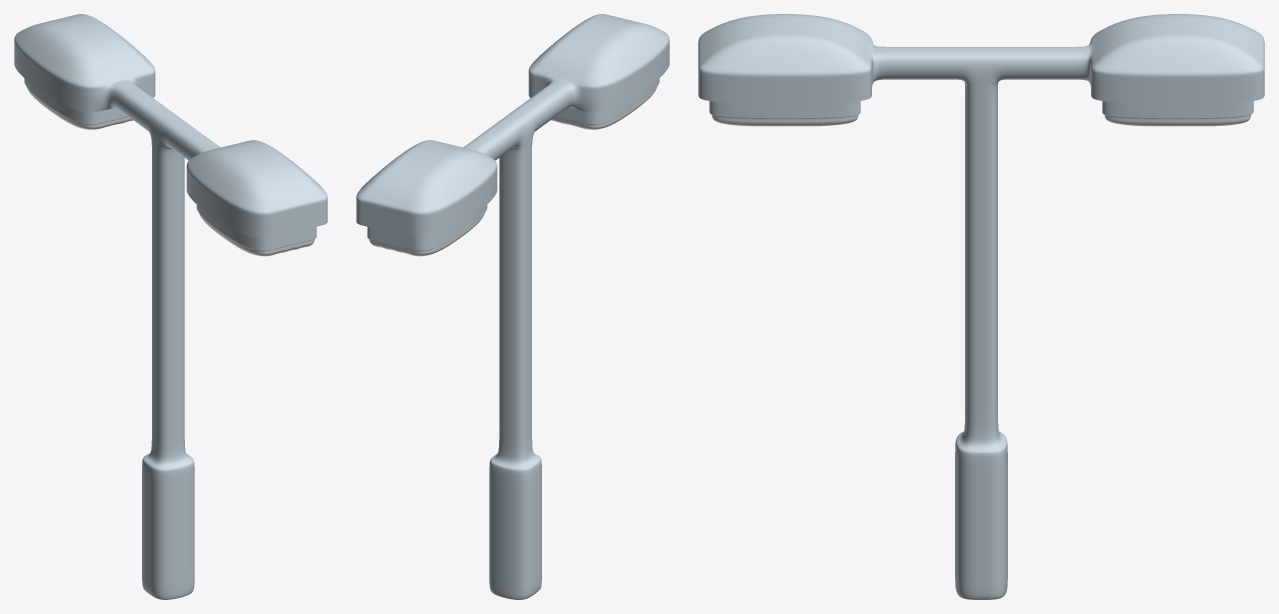
Rendered from streetlight.glb.
The picture shows the model from 3 angles, left to right: view 1: azimuth 30°, elevation 25°; view 2: azimuth 150°, elevation 25°; view 3: azimuth 270°, elevation 25°; orthographic projection. The views are drawn at different scales.
Visible parts, largest first — view 1: Light cap; view 2: Light cap; view 3: Light cap.
Boxes of the visible parts, x1,y1,x2,y2 form: Light cap: (14, 14, 327, 599); Light cap: (356, 14, 669, 599); Light cap: (698, 14, 1264, 599).
Bounding box in the file's own units: 2.85 × 15.23 × 13.81.
